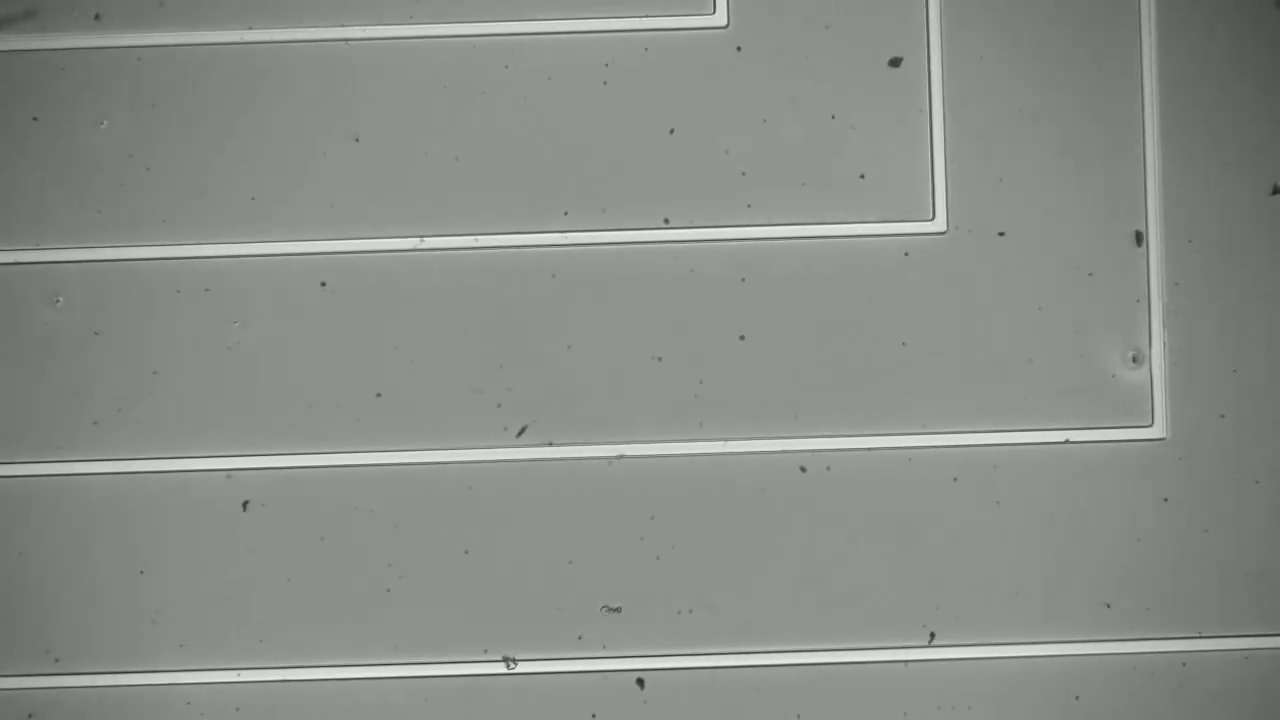stains_enbedded: (499, 651, 526, 683)
